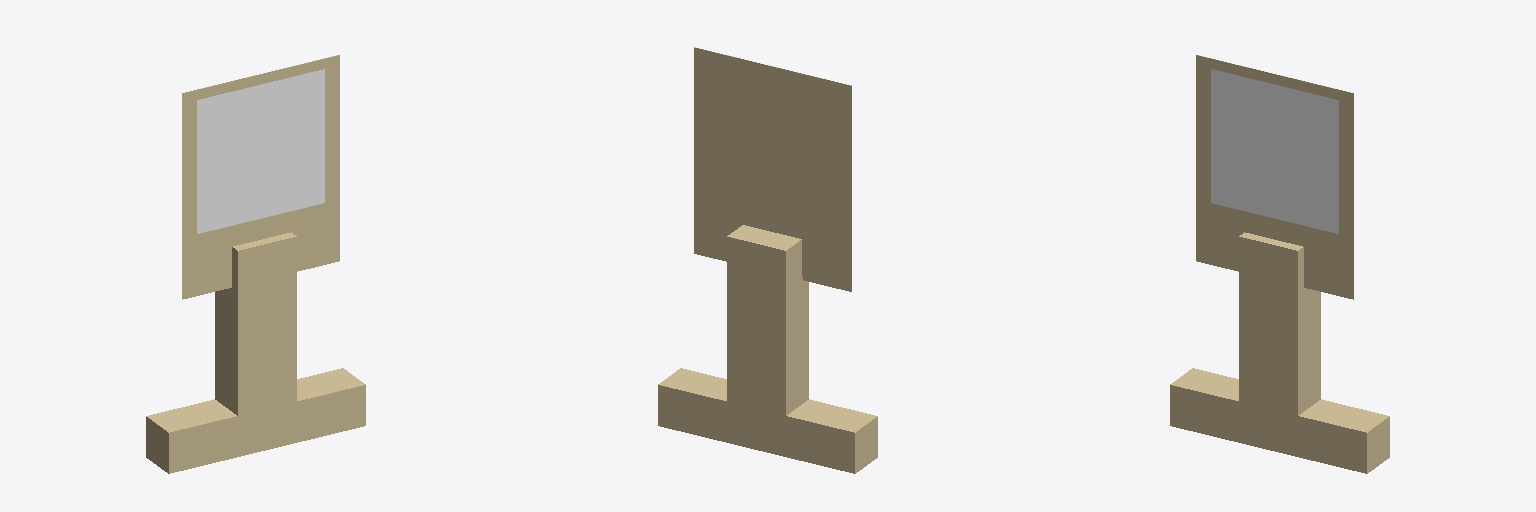
The model's file is PANCARTE_QR.obj.
3 renders of one model, left to right at view 1: azimuth 30°, elevation 25°; view 2: azimuth 150°, elevation 25°; view 3: azimuth 330°, elevation 25°, orthographic.
Parts seen in each view (by area): view 1: Boss-Extrude2, Boss-Extrude3; view 2: Boss-Extrude2, Boss-Extrude3; view 3: Boss-Extrude2, Boss-Extrude3.
Boxes of the visible parts, <box> form: Boss-Extrude2: <box>146,55,365,473</box>; Boss-Extrude3: <box>197,69,324,233</box>; Boss-Extrude2: <box>658,47,877,473</box>; Boss-Extrude3: <box>709,61,836,226</box>; Boss-Extrude2: <box>1170,55,1389,473</box>; Boss-Extrude3: <box>1211,69,1338,233</box>.
Bounding box in the file's own units: 100 × 180 × 20.